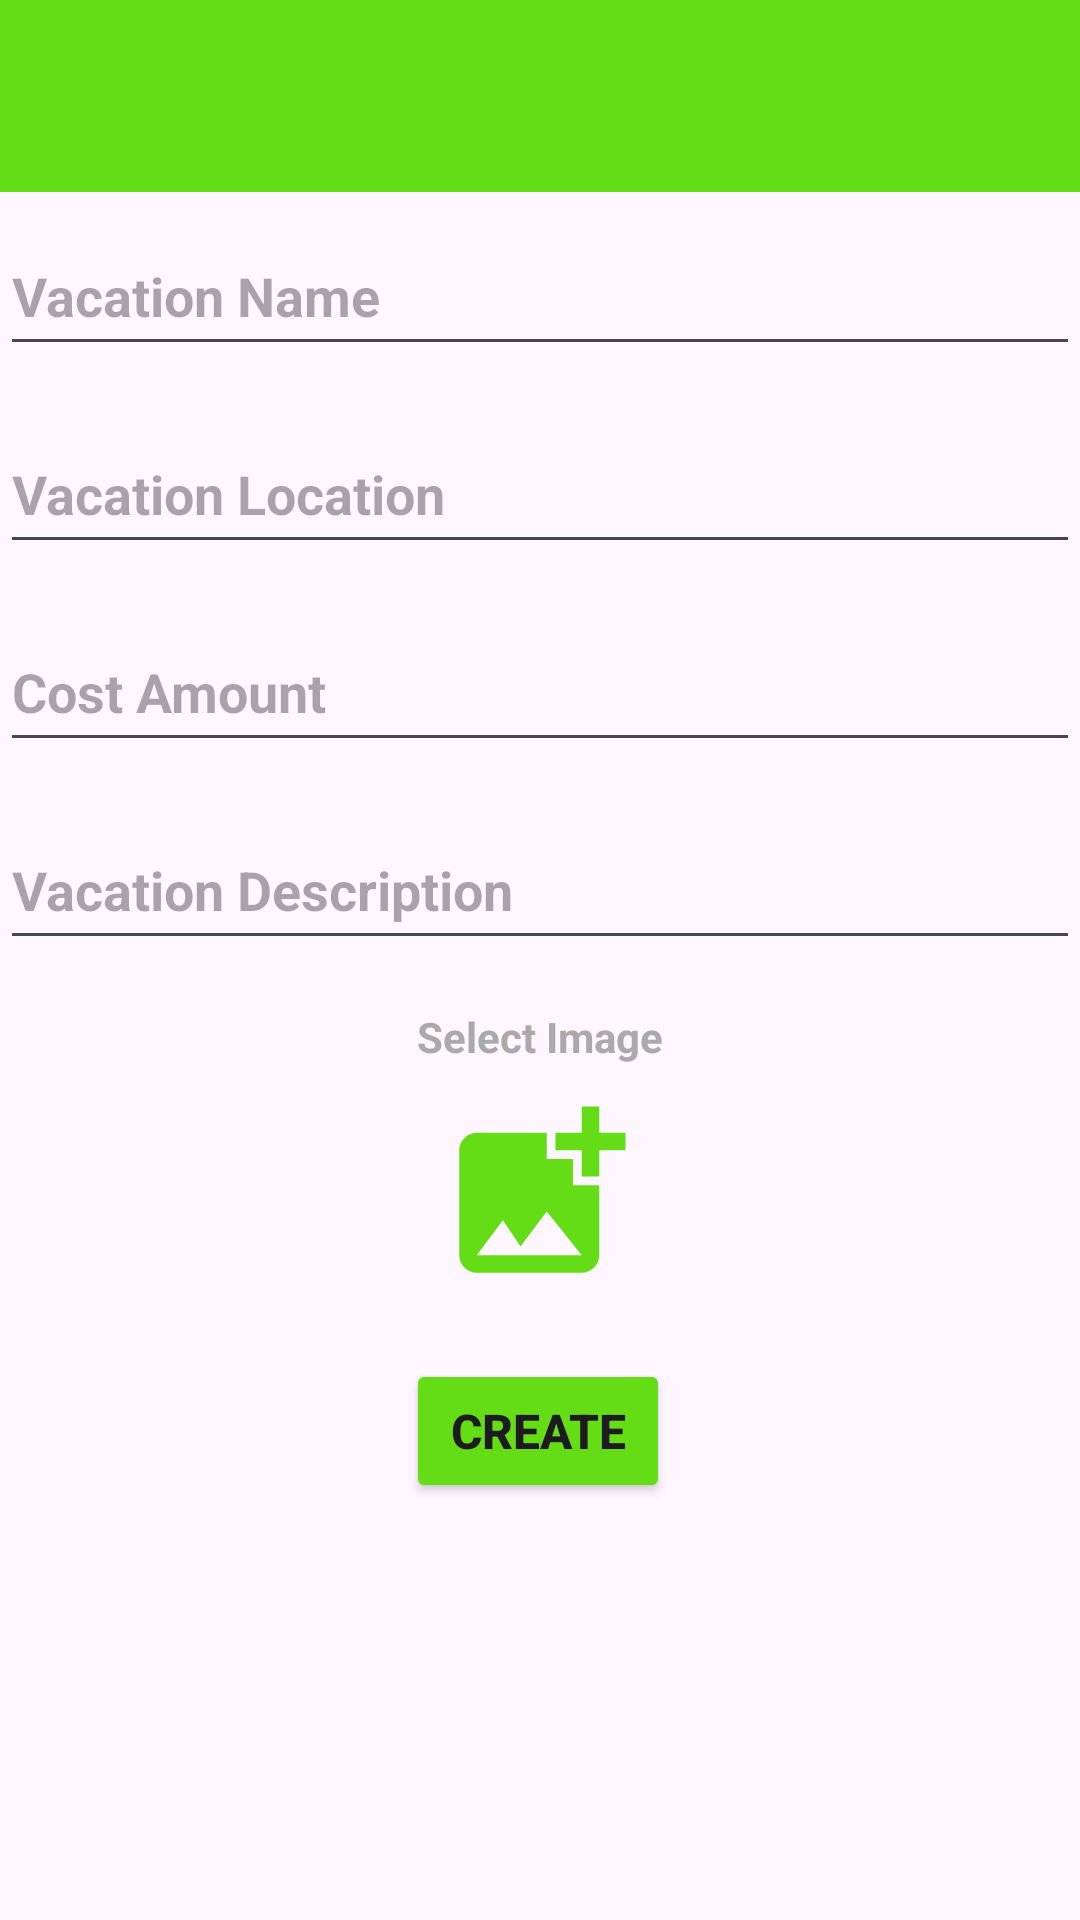

Where to tap for icons on this 1080w x 1920h app screen, as (x=x, y=y):
add view: (x=542, y=1189)
